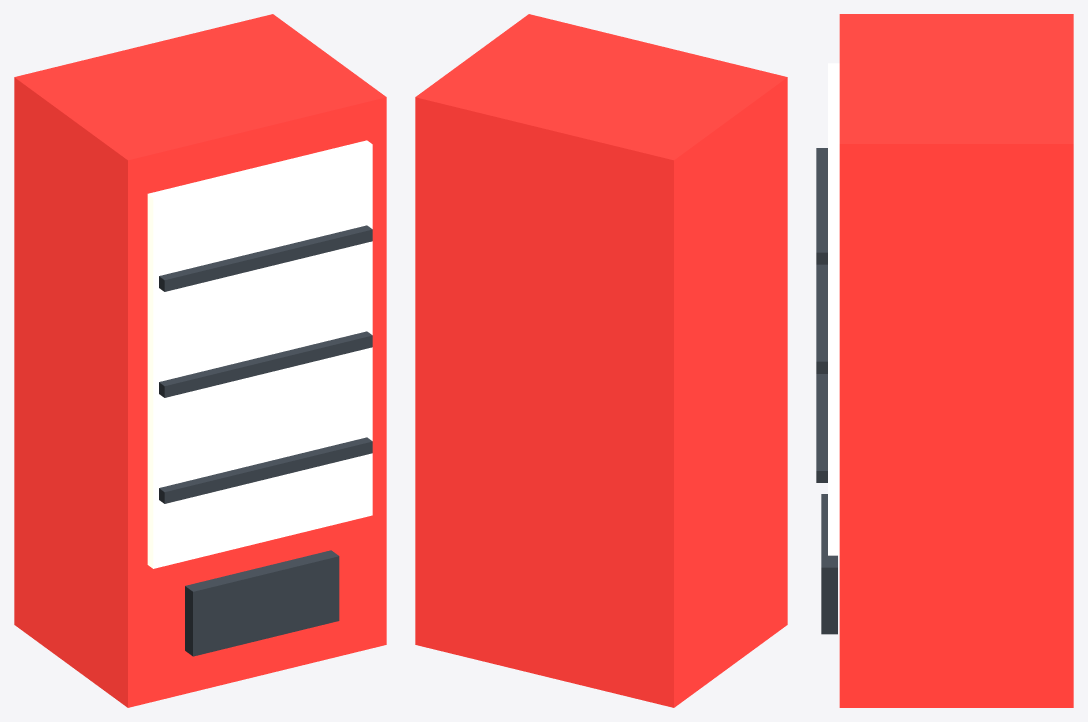
File: prop_vending.glb
3 views of the same model, side by side, from view 1: azimuth 30°, elevation 25°; view 2: azimuth 150°, elevation 25°; view 3: azimuth 270°, elevation 25° (orthographic). The views are drawn at different scales.
Parts seen in each view (by area): view 1: vending.009, vending_face.009, vending_slot.009, vending_shelf.027, vending_shelf.028, vending_shelf.029; view 2: vending.009; view 3: vending.009, vending_face.009, vending_slot.009, vending_shelf.029, vending_shelf.028, vending_shelf.027.
Boxes of the visible parts, box(x1,y1,x2,y2) form: vending.009: box(14, 14, 386, 707); vending_face.009: box(147, 140, 372, 568); vending_slot.009: box(185, 550, 339, 656); vending_shelf.027: box(159, 437, 372, 503); vending_shelf.028: box(159, 331, 372, 397); vending_shelf.029: box(159, 225, 372, 291); vending.009: box(415, 14, 787, 707); vending.009: box(839, 14, 1073, 707); vending_face.009: box(828, 63, 839, 555); vending_slot.009: box(821, 494, 837, 634); vending_shelf.029: box(816, 148, 827, 264); vending_shelf.028: box(816, 264, 827, 373); vending_shelf.027: box(816, 374, 827, 482).
Bounding box in the file's own units: 0.92 × 1.86 × 0.77.
